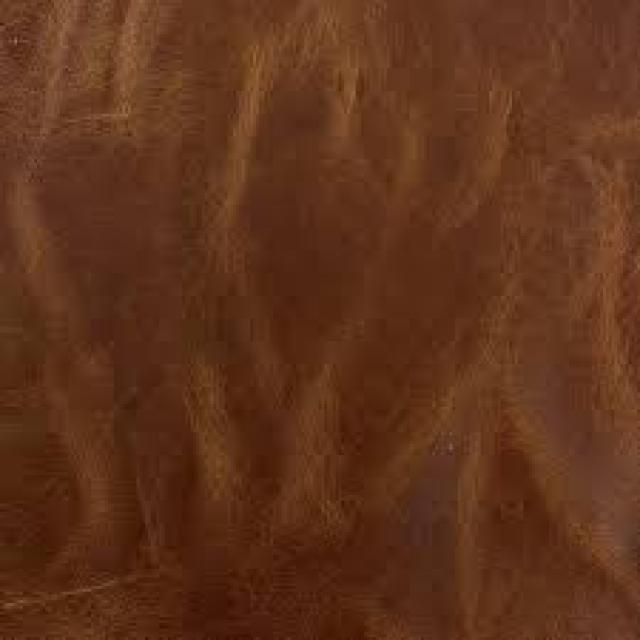Crease: (398, 357, 598, 619), (210, 43, 272, 213)
